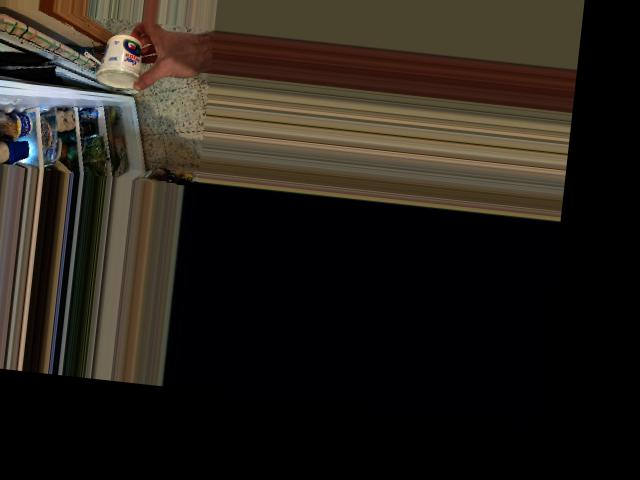cotage: (96, 32, 146, 89)
